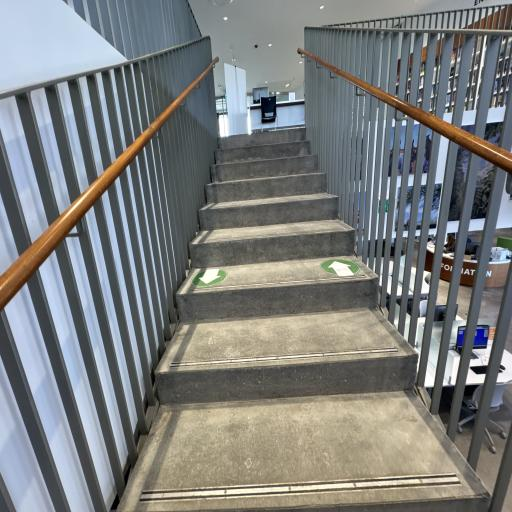Stairs: (118, 129, 489, 512)
